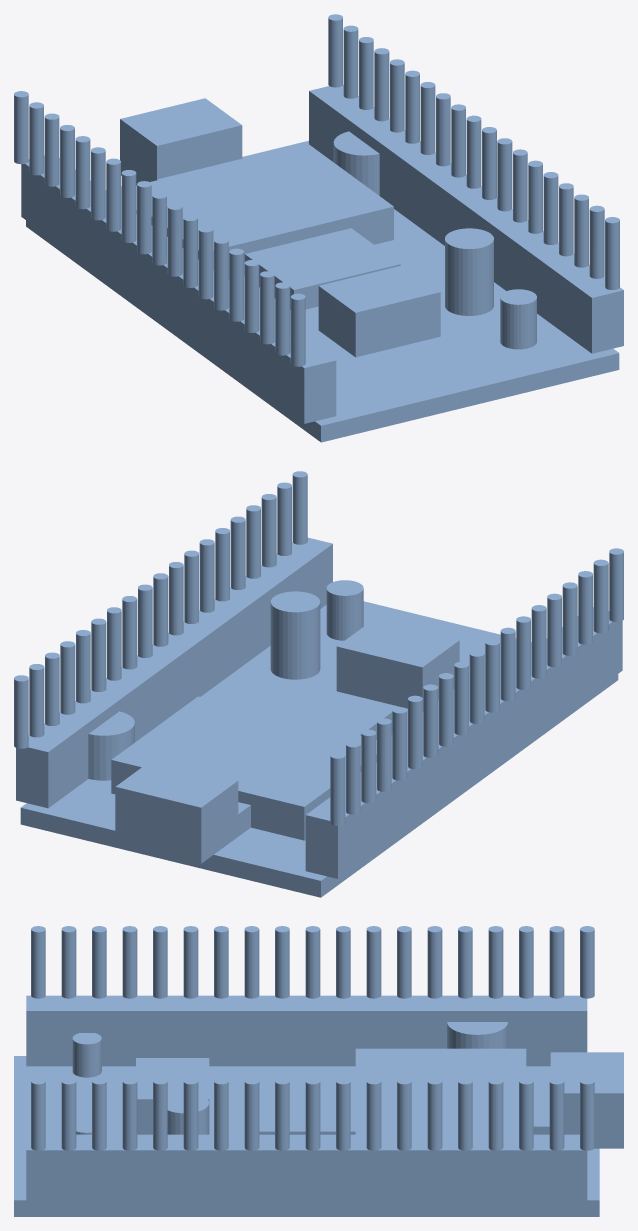
The model's file is esp32.glb.
3 views of the same model, one above another, from view 1: azimuth 30°, elevation 25°; view 2: azimuth 150°, elevation 25°; view 3: azimuth 270°, elevation 25° (orthographic).
Visible parts, largest first — view 1: esp32; view 2: esp32; view 3: esp32.
Part boxes in pixels (x1,y1,x2,y2): esp32: (14,14,623,442); esp32: (14,471,623,897); esp32: (14,926,623,1216).
Size of the model in its own units: 30.7 by 12.5 by 50.
